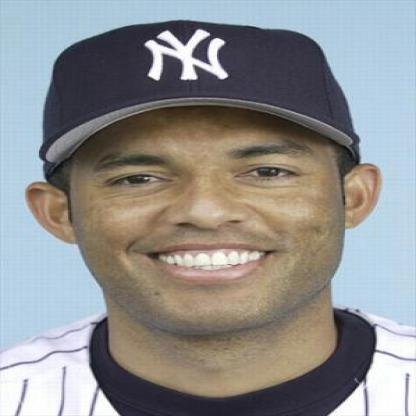face: (66, 26, 347, 338)
